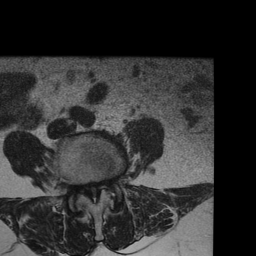CCS_normal: (89, 177, 96, 207)
LFS_severe_stenosis: (103, 167, 110, 194)
LLS_severe_stenosis: (96, 172, 103, 198)
RFS_severe_stenosis: (73, 171, 82, 195)
RLS_severe_stenosis: (81, 174, 88, 199)
